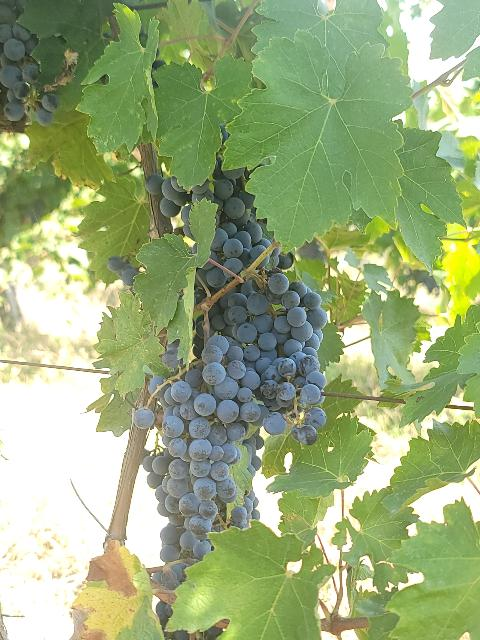grapes: (142, 336, 245, 590), (225, 272, 328, 445), (145, 159, 265, 290)
